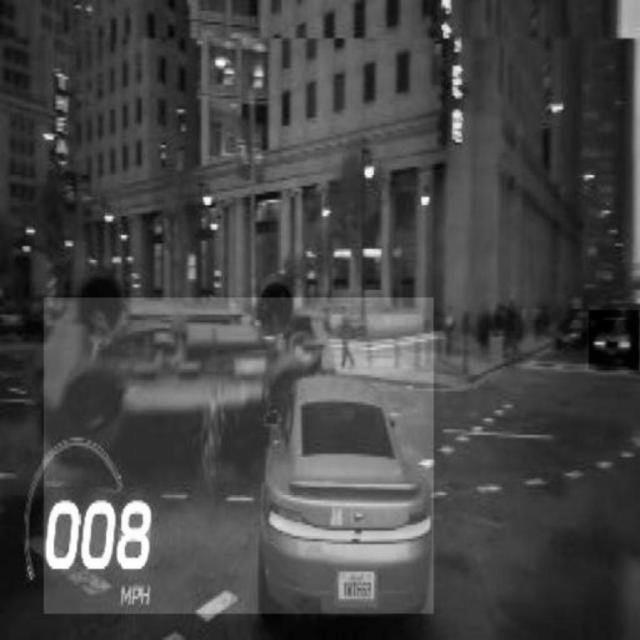accident: (44, 298, 434, 614)
person: (333, 302, 360, 372)
vehicle: (589, 310, 639, 370)
